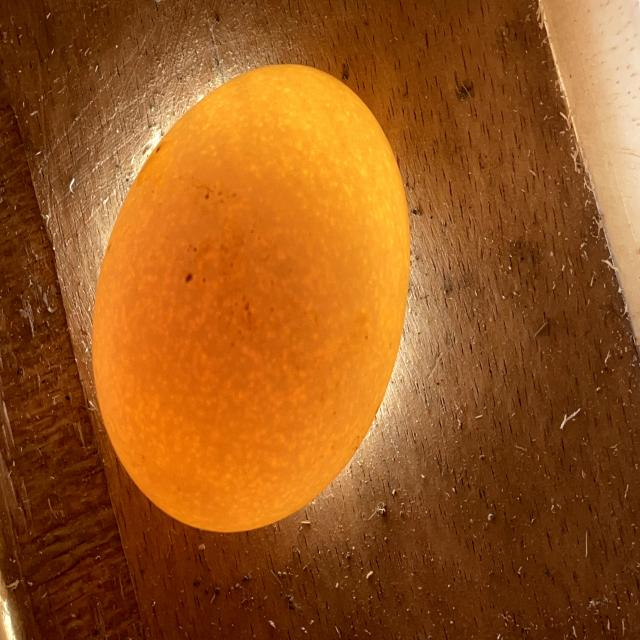infertile: (92, 65, 410, 532)
